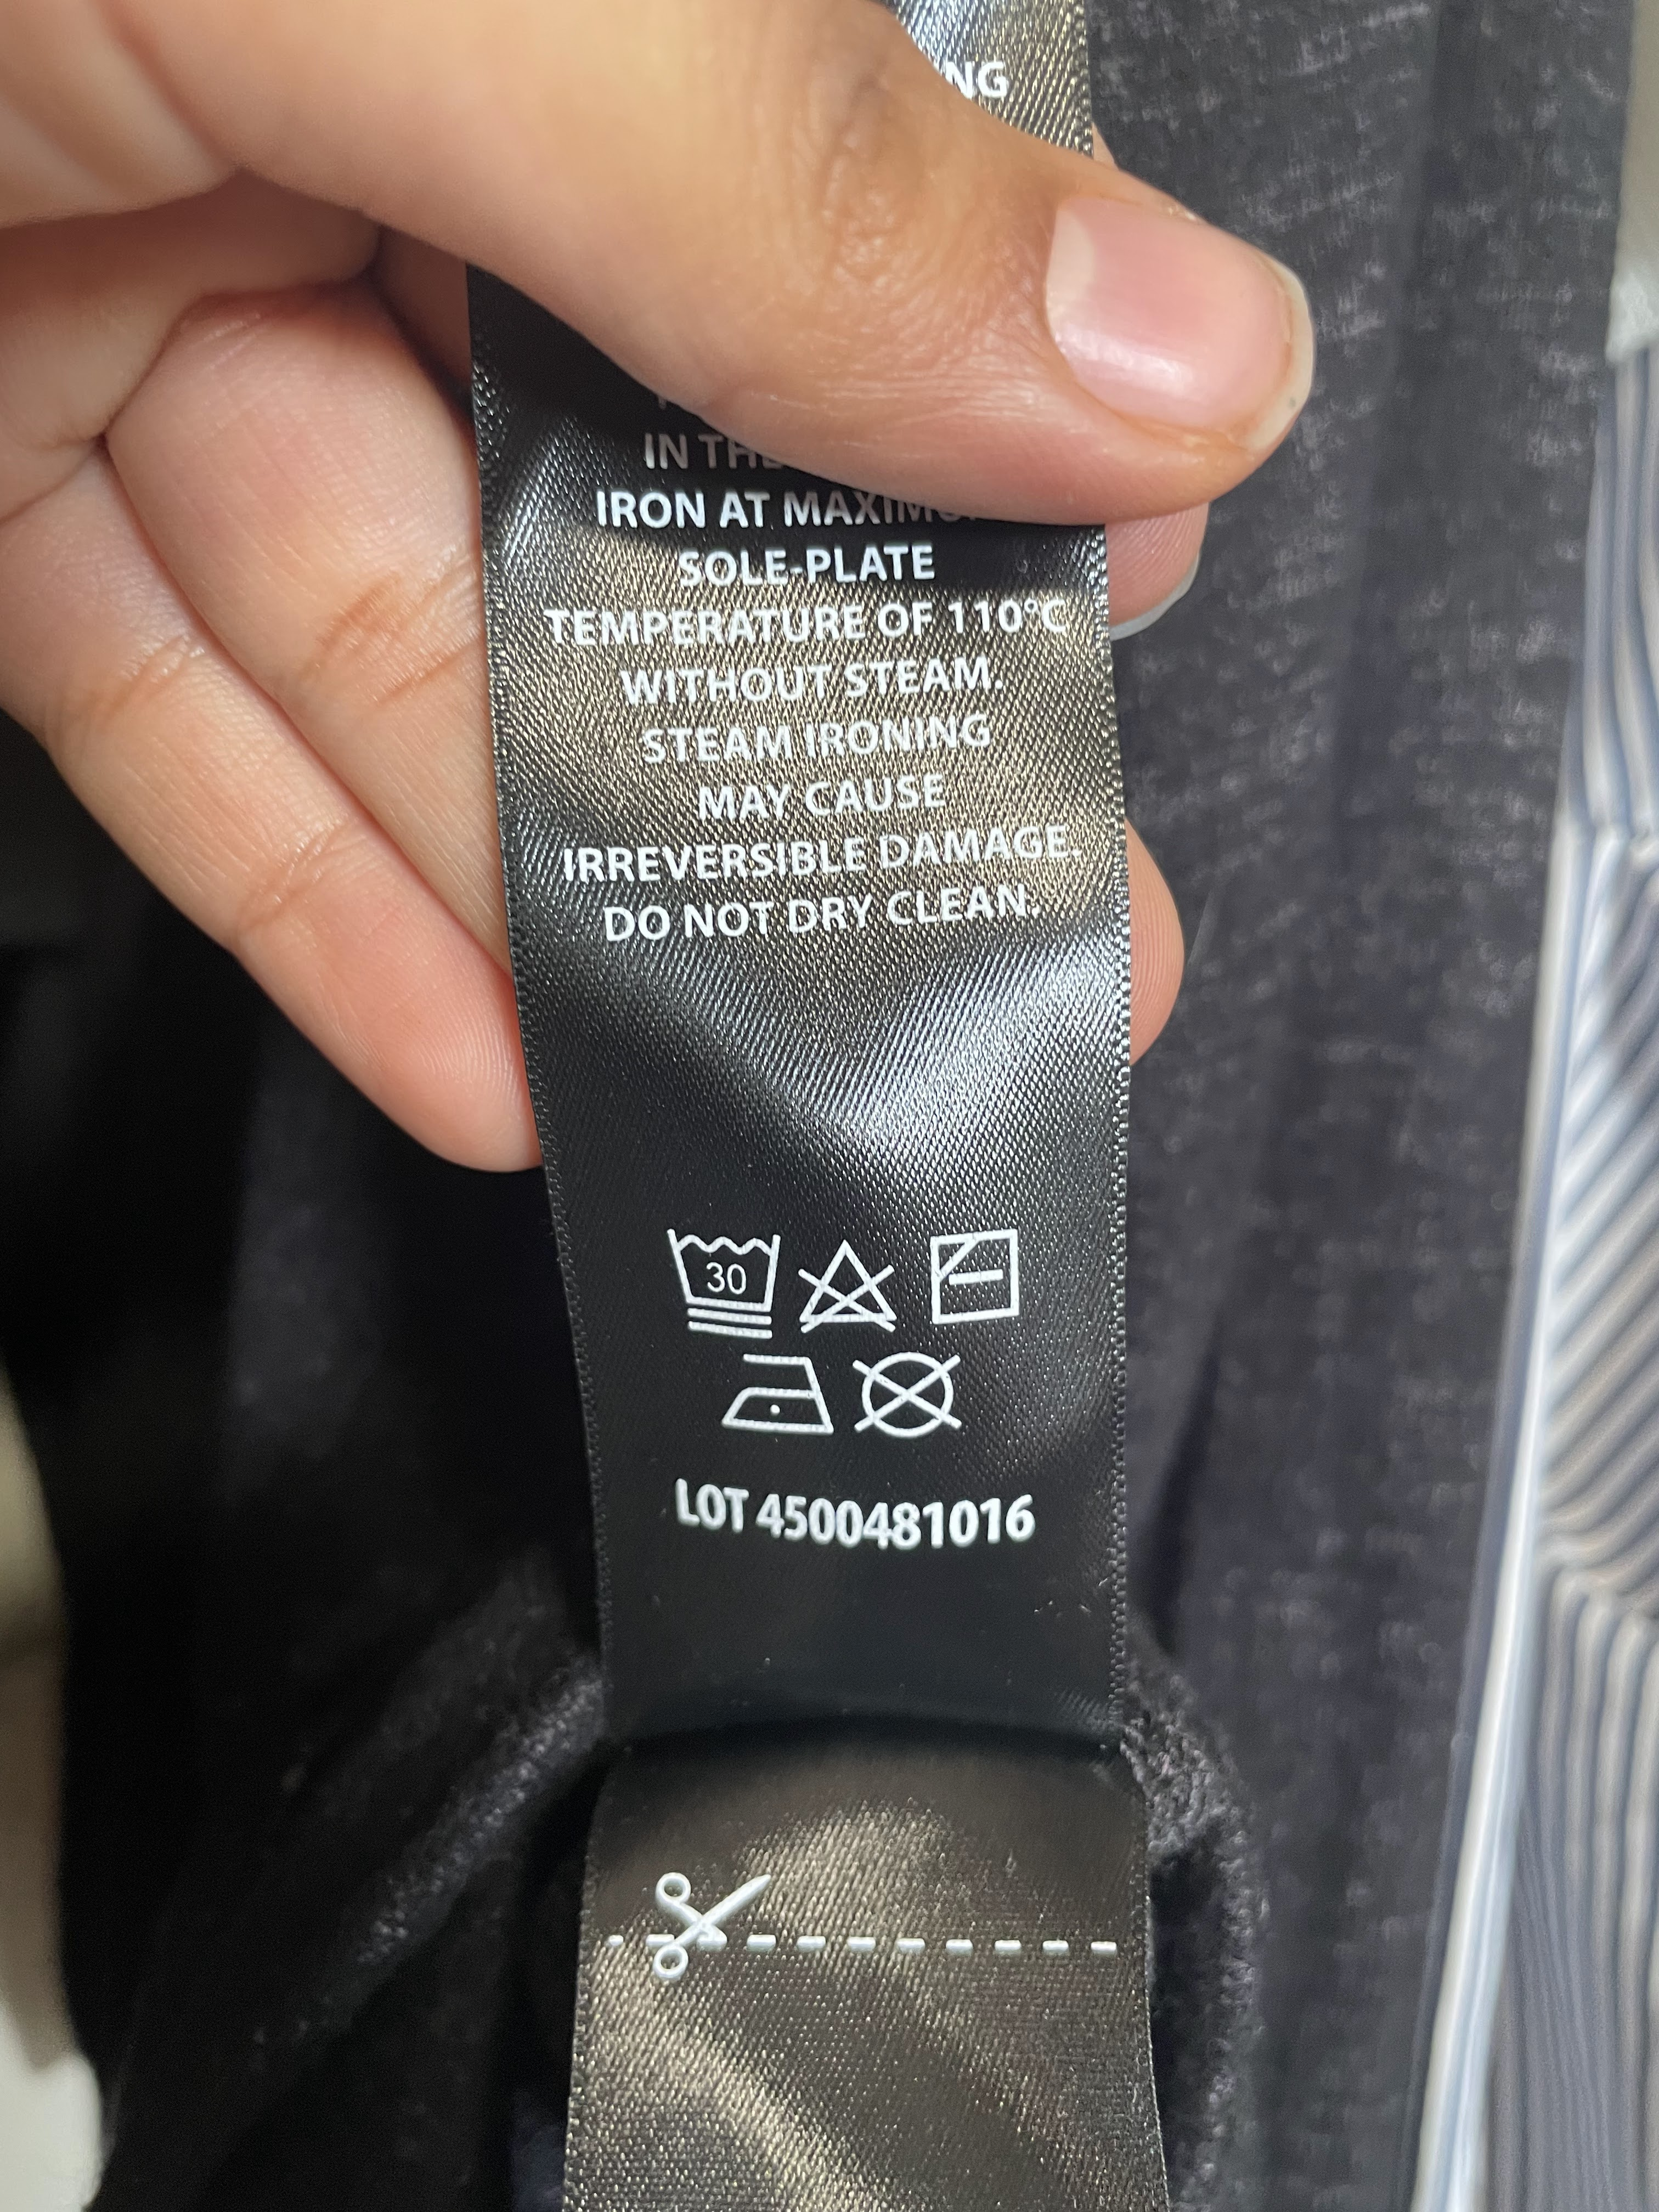do not bleach: (782, 1207, 918, 1353)
do not dry clean: (836, 1339, 990, 1461)
dry flat: (908, 1214, 1054, 1346)
iron low temp: (694, 1339, 843, 1472)
wash at or below 30: (617, 1205, 795, 1360)
